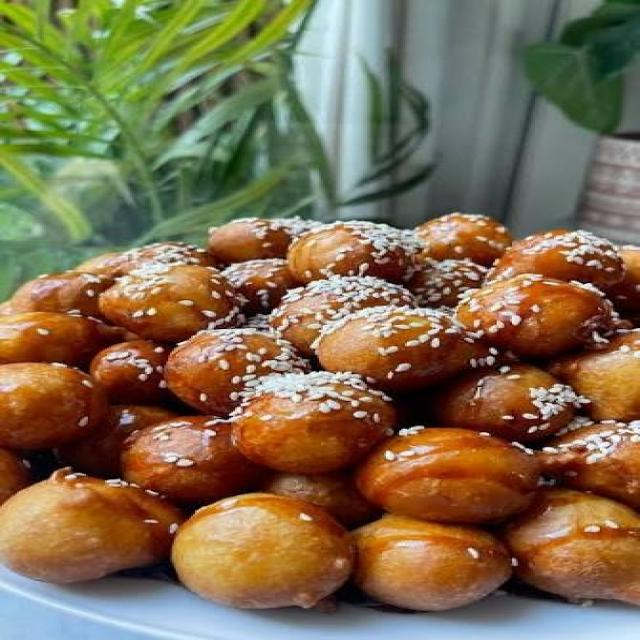Luqaimat: (9, 216, 640, 618)
